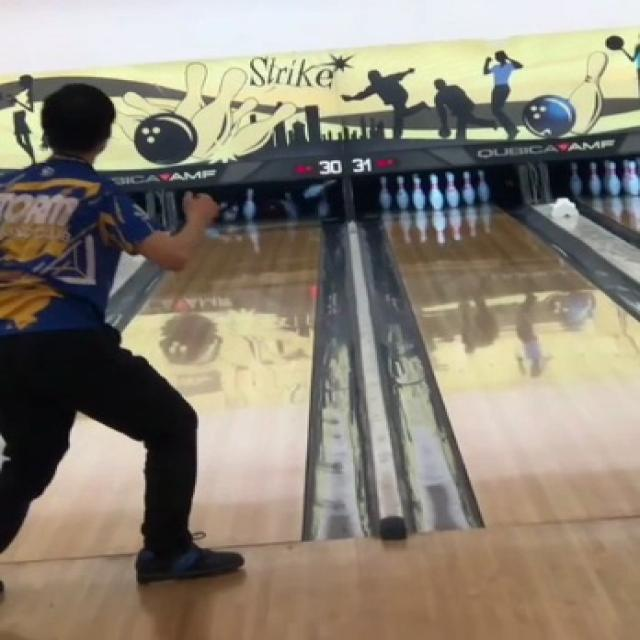alley: (123, 223, 318, 546), (0, 415, 142, 562)
bottle: (221, 180, 335, 223)
